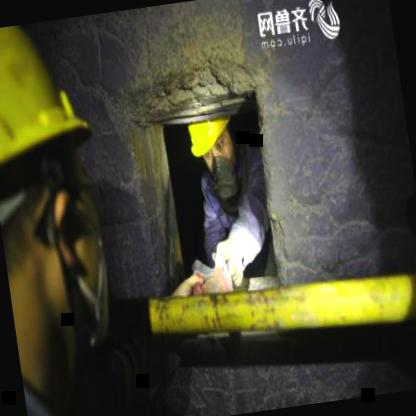helmet: (0, 17, 125, 416), (184, 112, 237, 172)
